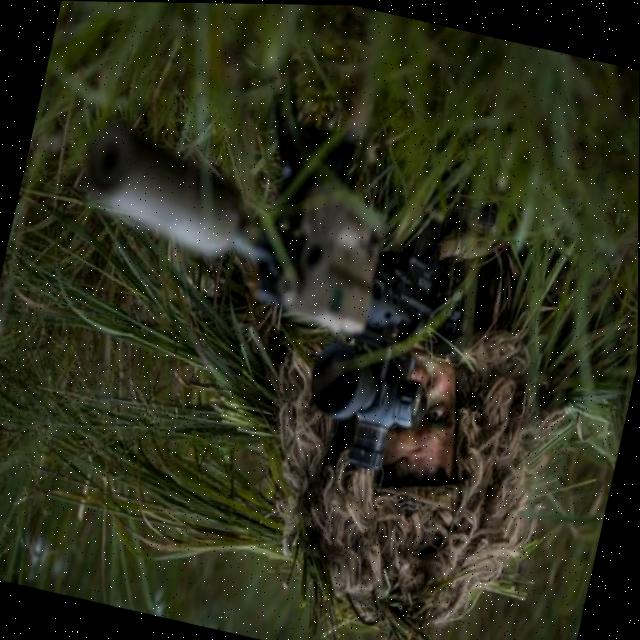firearm: (33, 79, 513, 488)
